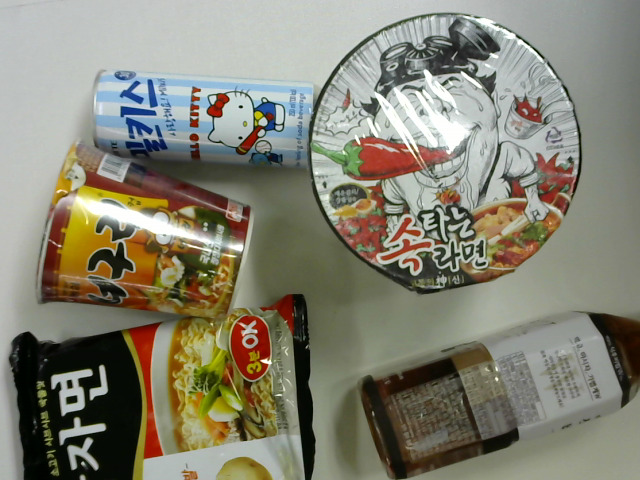HeJangsock: (311, 10, 585, 292)
Milkies_250ml: (87, 66, 321, 172)
Post-meal_recipe_W_tea_500ml: (355, 300, 640, 476)
Potato: (7, 294, 318, 480)
Raccoon: (37, 142, 253, 322)
